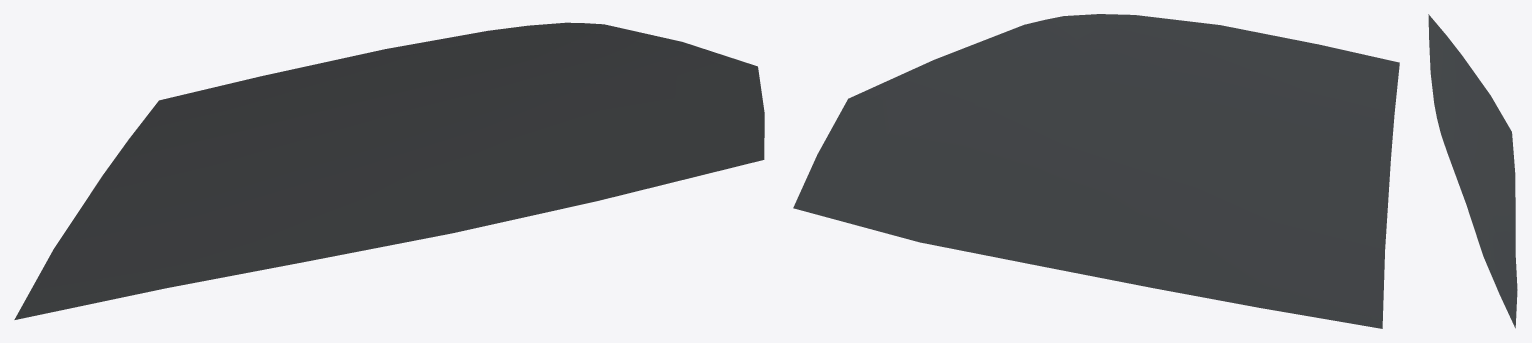
The model's file is gallo99_body_driver_ucb_lights_and_glass_transperent_0.003_lev3.glb.
3 views of the same model, side by side, from view 1: azimuth 30°, elevation 25°; view 2: azimuth 150°, elevation 25°; view 3: azimuth 270°, elevation 25° (orthographic). The views are drawn at different scales.
Parts seen in each view (by area): view 1: gallo99_body_driver_ucb_lights_and_glass_transperent_0.003_l; view 2: gallo99_body_driver_ucb_lights_and_glass_transperent_0.003_l; view 3: gallo99_body_driver_ucb_lights_and_glass_transperent_0.003_l.
Part boxes in pixels (x1,y1,x2,y2): gallo99_body_driver_ucb_lights_and_glass_transperent_0.003_l: (14, 22, 764, 319); gallo99_body_driver_ucb_lights_and_glass_transperent_0.003_l: (793, 14, 1399, 328); gallo99_body_driver_ucb_lights_and_glass_transperent_0.003_l: (1428, 14, 1517, 328).
Bounding box in the file's own units: 0.9628 × 0.3596 × 0.197.
1 material, 1 textured.
